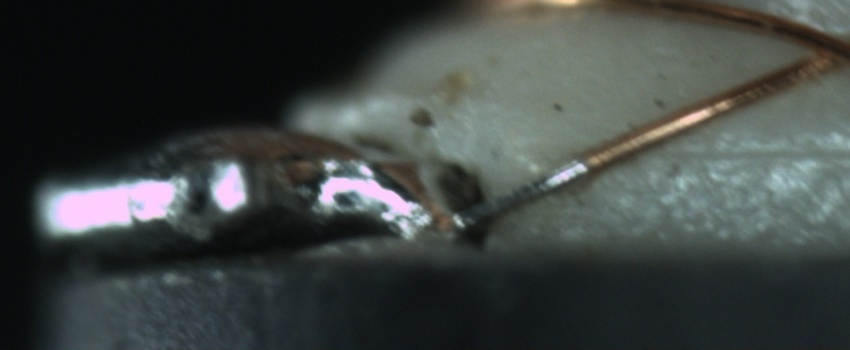CL: (795, 29, 850, 83)
DL: (644, 119, 848, 185)
TS: (455, 157, 587, 235)
